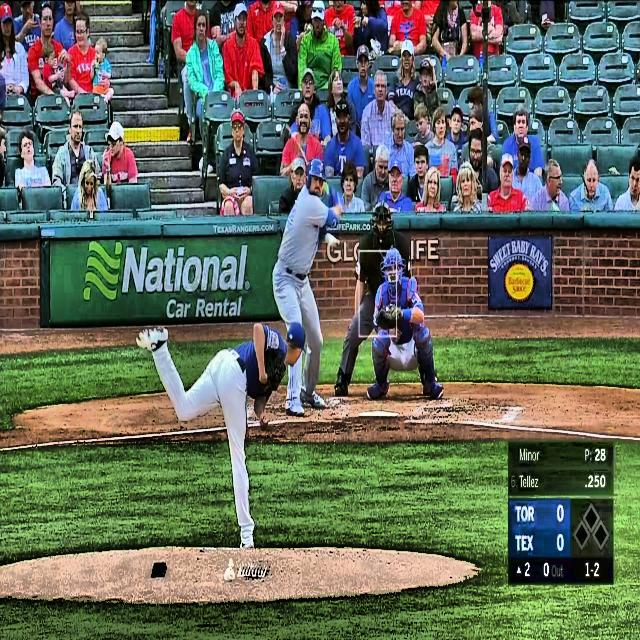baseball: (326, 232, 336, 248)
